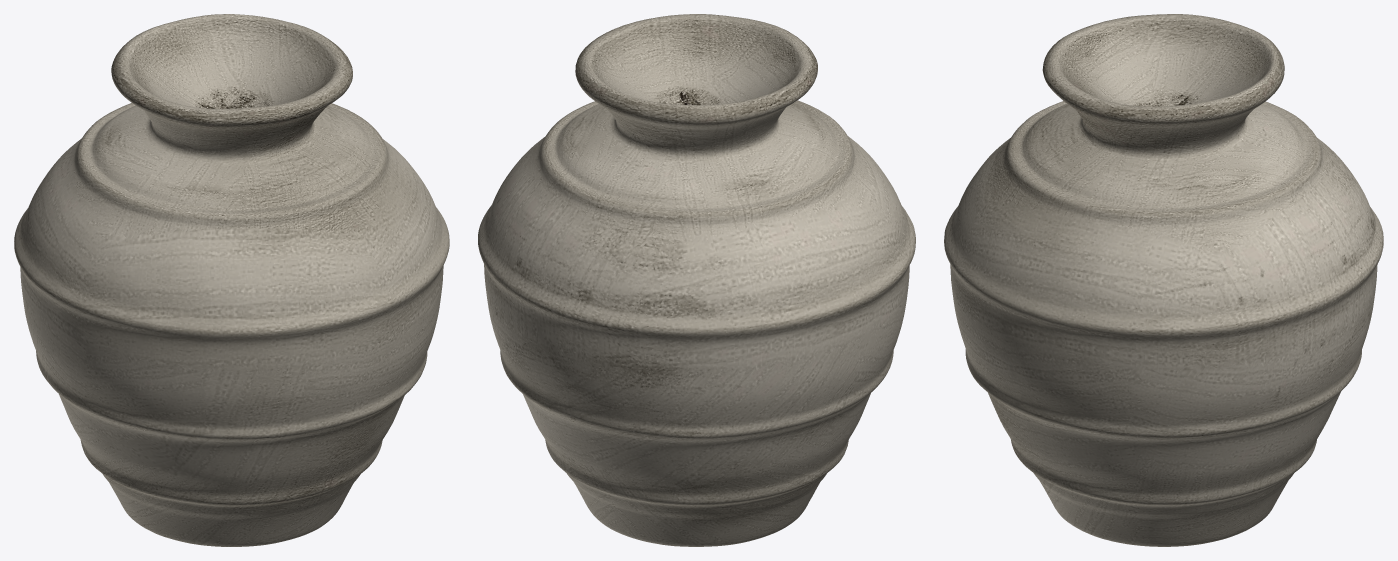
File: clay-vase.hd.glb
3 views of the same model, side by side, from view 1: azimuth 30°, elevation 25°; view 2: azimuth 150°, elevation 25°; view 3: azimuth 270°, elevation 25° (orthographic).
Visible parts, largest first — view 1: tripo_node_82a9cff4-524a-489b-9137-df30fb93ca62; view 2: tripo_node_82a9cff4-524a-489b-9137-df30fb93ca62; view 3: tripo_node_82a9cff4-524a-489b-9137-df30fb93ca62.
Part boxes in pixels (left/top/right/bottom): tripo_node_82a9cff4-524a-489b-9137-df30fb93ca62: left=14, top=14, right=449, bottom=546; tripo_node_82a9cff4-524a-489b-9137-df30fb93ca62: left=478, top=14, right=915, bottom=546; tripo_node_82a9cff4-524a-489b-9137-df30fb93ca62: left=944, top=14, right=1383, bottom=546.
Size of the model in its own units: 0.3584 by 0.4 by 0.3584.
1 material, 1 textured.
